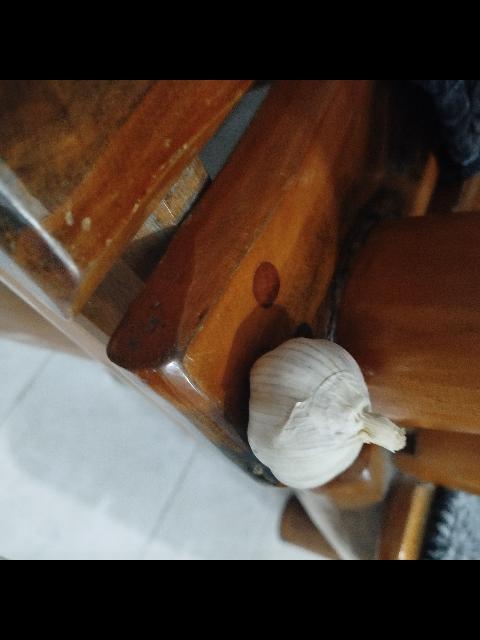garlic: (246, 336, 406, 489)
